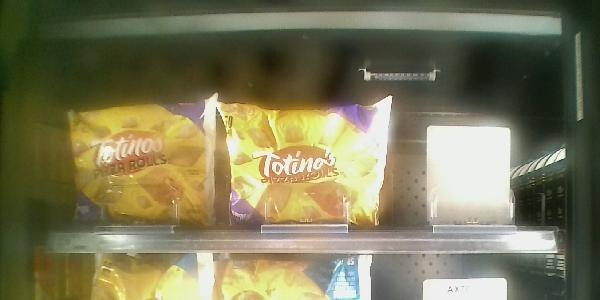icecream: (220, 96, 386, 223), (60, 95, 217, 227)
